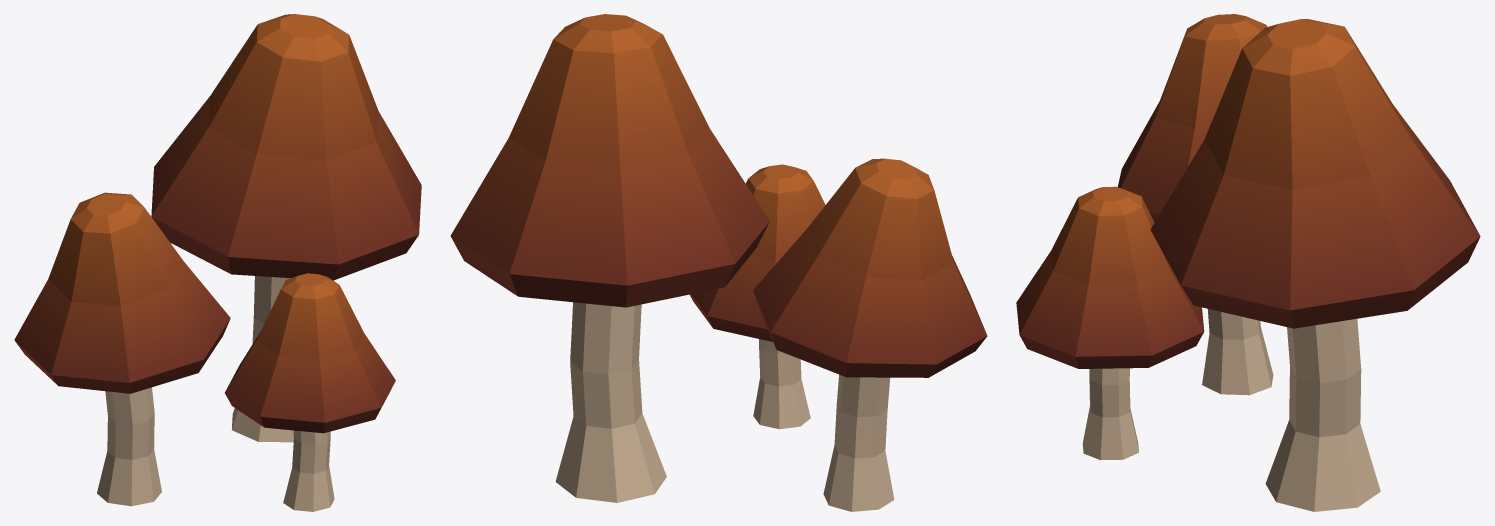
The model's file is Summer_Mushroom_02.glb.
3 renders of one model, left to right at view 1: azimuth 30°, elevation 25°; view 2: azimuth 150°, elevation 25°; view 3: azimuth 270°, elevation 25°, orthographic. The views are drawn at different scales.
Visible parts, largest first — view 1: Summer_Mushroom_02_LOD0; view 2: Summer_Mushroom_02_LOD0; view 3: Summer_Mushroom_02_LOD0.
Boxes of the visible parts, box(x1,y1,x2,y2) form: Summer_Mushroom_02_LOD0: box(14, 14, 421, 511); Summer_Mushroom_02_LOD0: box(450, 14, 987, 511); Summer_Mushroom_02_LOD0: box(1016, 14, 1480, 511).
Size of what is drawn, in the model's own units: 0.3154 by 0.2952 by 0.2668.
Materials: 1 (1 with a texture image).
